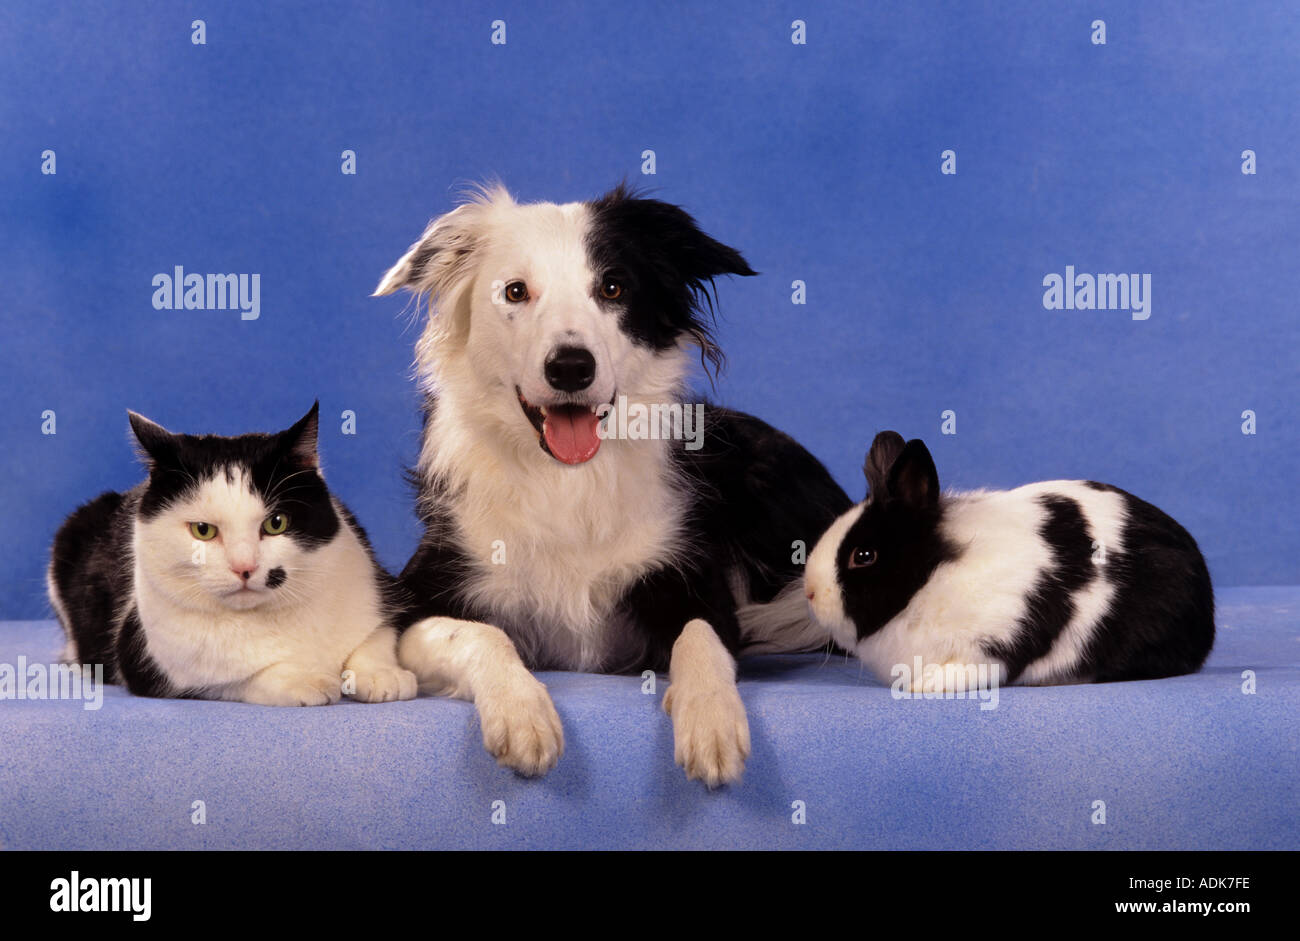cat: (31, 402, 402, 737)
dog: (383, 191, 804, 764)
rabbit: (793, 416, 1232, 737)
